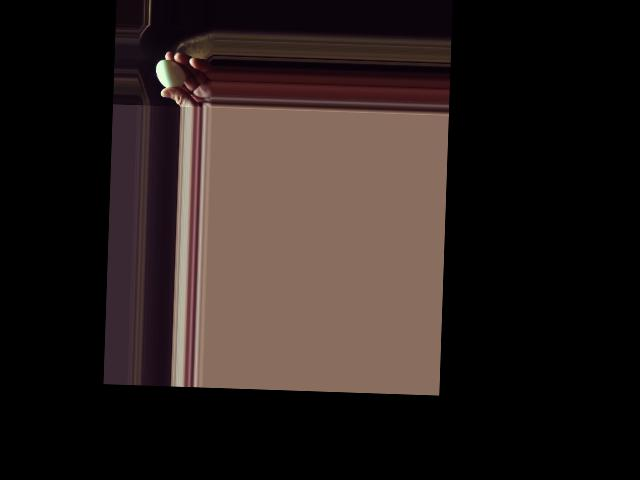egg: (155, 59, 186, 88)
